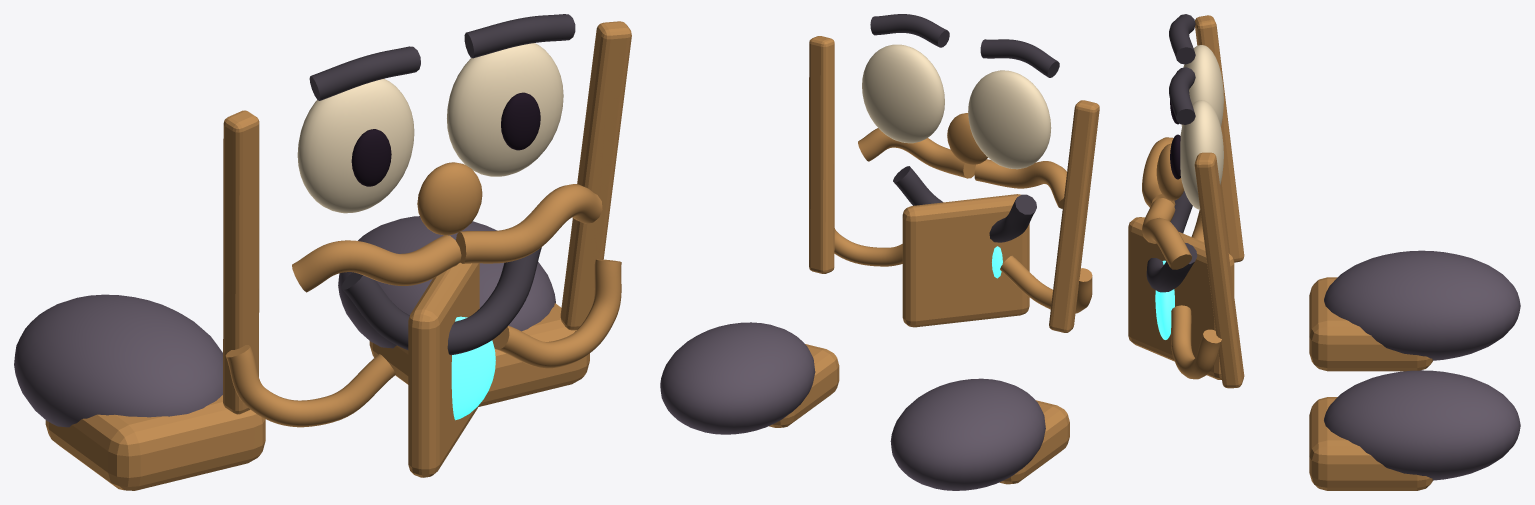
The model's file is hero-cauldron-player-kit.glb.
The picture shows the model from 3 angles, left to right: view 1: azimuth 30°, elevation 25°; view 2: azimuth 150°, elevation 25°; view 3: azimuth 270°, elevation 25°; orthographic projection. The views are drawn at different scales.
Parts seen in each view (by area): view 1: Hero_boot_-1, Hero_boot_toe_-1, Eye_1, Eye_-1, Hero_rune_mount, Hero_vertical_trim_1, Hero_vertical_trim_-1, Smile, Hero_boot_1, Moustache_left, Hero_scroll_-1, Moustache_right (+8 smaller); view 2: Hero_boot_1, Hero_boot_-1, Hero_rune_mount, Eye_1, Eye_-1, Hero_vertical_trim_1, Hero_vertical_trim_-1, Smile, Moustache_left, Moustache_right, Hero_boot_toe_1, Hero_boot_toe_-1 (+5 smaller); view 3: Hero_boot_1, Hero_boot_-1, Hero_rune_mount, Hero_vertical_trim_1, Hero_boot_toe_-1, Hero_boot_toe_1, Hero_vertical_trim_-1, Eye_1, Hero_scroll_1, Moustache_right, Eye_-1, Smile (+6 smaller).
Boxes of the visible parts, bbox=[...] form: Hero_boot_-1: bbox=[14, 294, 222, 427]; Hero_boot_toe_-1: bbox=[45, 395, 265, 490]; Eye_1: bbox=[447, 43, 563, 176]; Eye_-1: bbox=[297, 79, 414, 213]; Hero_rune_mount: bbox=[408, 262, 479, 477]; Hero_vertical_trim_1: bbox=[560, 21, 631, 330]; Hero_vertical_trim_-1: bbox=[223, 110, 259, 414]; Smile: bbox=[341, 247, 541, 355]; Hero_boot_1: bbox=[338, 216, 555, 348]; Moustache_left: bbox=[292, 235, 461, 292]; Hero_scroll_-1: bbox=[225, 345, 395, 427]; Moustache_right: bbox=[456, 184, 602, 263]; Hero_boot_1: bbox=[660, 322, 815, 434]; Hero_boot_-1: bbox=[890, 378, 1045, 490]; Hero_rune_mount: bbox=[902, 194, 1029, 327]; Eye_1: bbox=[862, 44, 944, 143]; Eye_-1: bbox=[968, 70, 1051, 169]; Hero_vertical_trim_1: bbox=[809, 36, 834, 273]; Hero_vertical_trim_-1: bbox=[1049, 100, 1099, 332]; Smile: bbox=[893, 166, 1036, 242]; Moustache_left: bbox=[974, 159, 1066, 208]; Moustache_right: bbox=[858, 128, 975, 178]; Hero_boot_toe_1: bbox=[769, 344, 839, 427]; Hero_boot_toe_-1: bbox=[999, 400, 1069, 484]; Hero_boot_1: bbox=[1324, 370, 1520, 480]; Hero_boot_-1: bbox=[1324, 250, 1520, 360]; Hero_rune_mount: bbox=[1128, 217, 1234, 379]; Hero_vertical_trim_1: bbox=[1194, 152, 1244, 388]; Hero_boot_toe_-1: bbox=[1309, 277, 1432, 371]; Hero_boot_toe_1: bbox=[1309, 397, 1432, 490]; Hero_vertical_trim_-1: bbox=[1195, 15, 1244, 262]; Eye_1: bbox=[1180, 100, 1223, 209]; Hero_scroll_1: bbox=[1171, 305, 1221, 379]; Moustache_right: bbox=[1142, 198, 1191, 269]; Eye_-1: bbox=[1181, 45, 1223, 126]; Smile: bbox=[1146, 191, 1197, 292].
Size of the model in its own units: 1.94 by 1.76 by 1.75.
